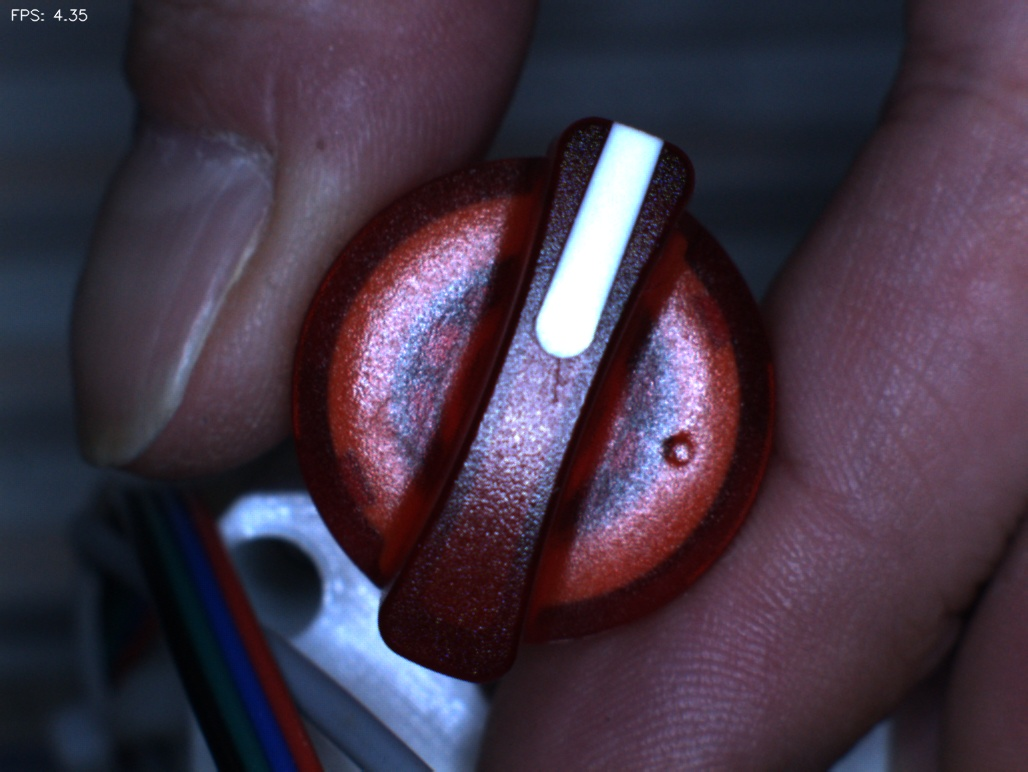Choc: (639, 406, 721, 488)
